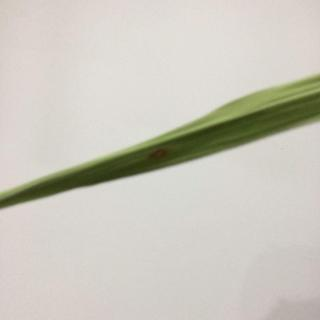Blast: (136, 142, 190, 168)
